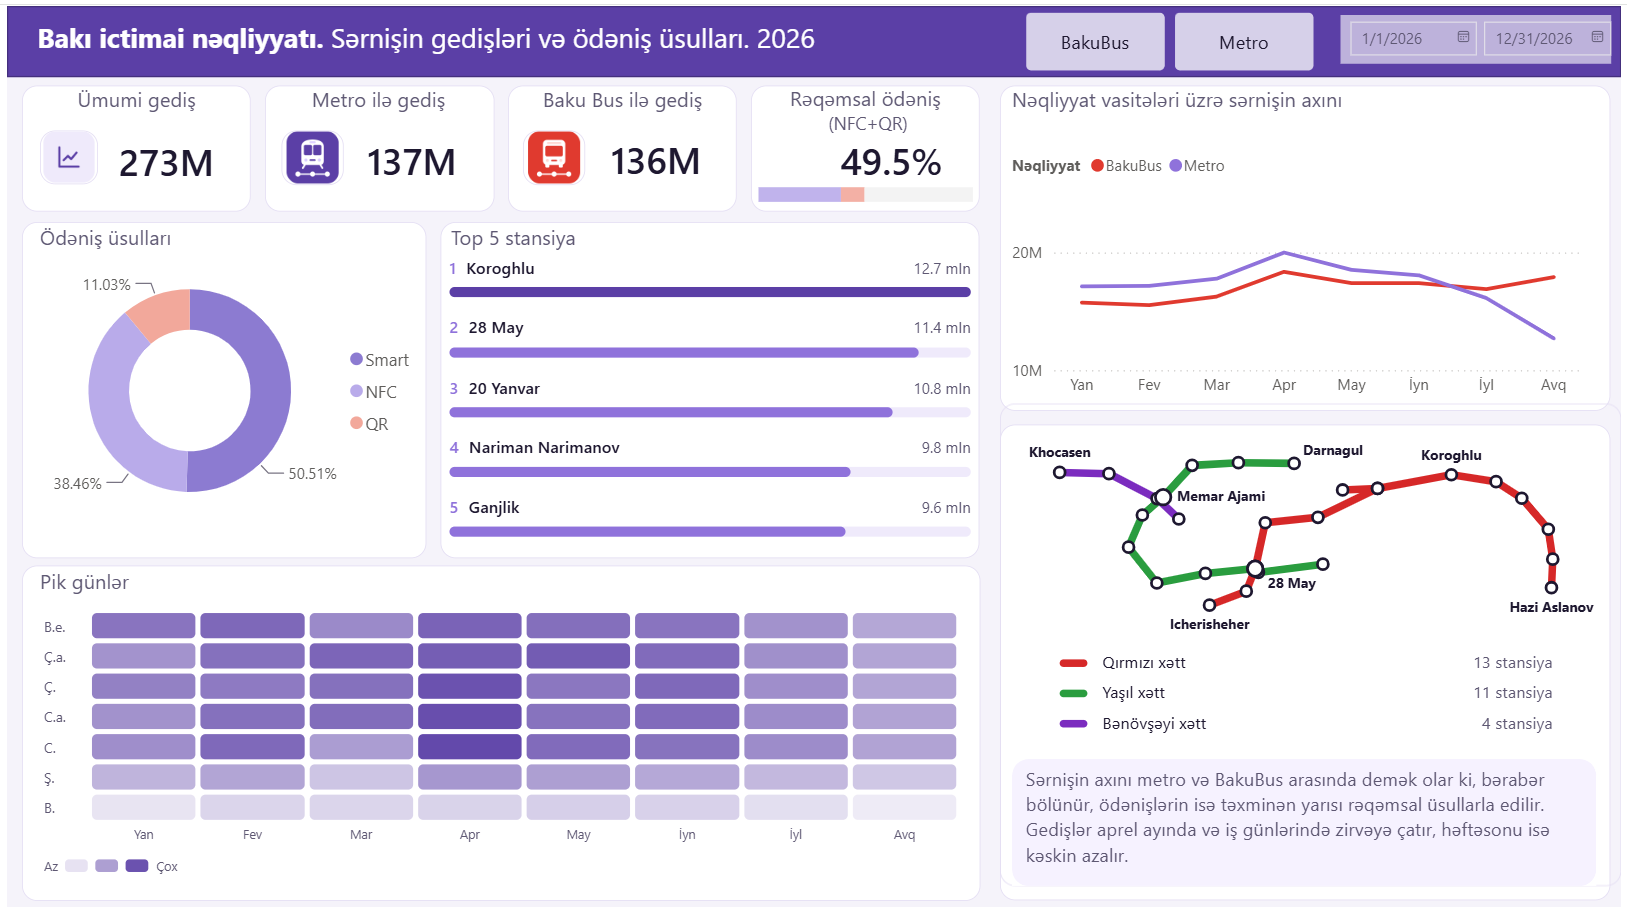

The page's visual inventory and layout, read from the dashboard file:
{"tool":"powerbi","page":{"name":"İctimai nəqliyyat ","canvas":[1280,720],"ordinal":0},"visuals":[{"type":"shape","box":[0,0,1280,56.4],"z":0},{"type":"shape","box":[11.9,62.5,181.2,100],"z":1000},{"type":"cardVisual","fields":{"Data":["Sum(Metro üzrə gedişlər.Gündəlik gediş sayı)"]},"box":[12.5,83,180.6,76.2],"z":2000},{"type":"shape","box":[787,63,484,258],"z":3000},{"type":"lineChart","fields":{"Category":["Calendar.Ay qısa"],"Series":["Metro üzrə gedişlər.Nəqliyyat"],"Y":["Sum(Metro üzrə gedişlər.Gündəlik gediş sayı)"]},"box":[797,112,451,202],"z":4000},{"type":"shape","box":[11.7,170.8,320.8,266.7],"z":5000},{"type":"shape","box":[787.1,331.4,484.3,377.1],"z":6000},{"type":"deneb7E15AEF80B9E4D4F8E12924291ECE89A","fields":{"dataset":["metro sxemi.Latitude","metro sxemi.Longitude","metro sxemi.Qol","metro sxemi.Sira","metro sxemi.Xett","stansiyalar_dim.Stansiya"]},"box":[787.5,315,492.5,382.5],"z":7000},{"type":"donutChart","fields":{"Category":["Metro üzrə ödəniş üsulları.Ödəniş üsulu"],"Y":["Metro üzrə ödəniş üsulları.Orta faiz"]},"box":[12.5,170.8,320,266.7],"z":8000},{"type":"shape","box":[204.4,62.5,181.9,100],"z":9000},{"type":"shape","box":[397.5,62.5,181.2,100],"z":10000},{"type":"shape","box":[590,62.5,181.2,100],"z":11000},{"type":"cardVisual","fields":{"Data":["Sum(Metro üzrə gedişlər.Gündəlik gediş sayı)"]},"box":[204.4,79,181.9,84.4],"z":12000},{"type":"cardVisual","fields":{"Data":["Sum(Metro üzrə gedişlər.Gündəlik gediş sayı)"]},"box":[398.8,78.8,181.2,83.8],"z":13000},{"type":"cardVisual","fields":{"Data":["Metro üzrə ödəniş üsulları.Rəqəmsal ödəniş faizi"]},"box":[590,79.6,181.2,83.1],"z":14000},{"type":"image","box":[217.5,98.2,49.3,43.3],"z":15000},{"type":"image","box":[26.2,98.6,46,42.7],"z":16000},{"type":"image","box":[408.8,98.2,49.3,43.3],"z":17000},{"type":"shape","box":[344.2,170.8,427.5,266.7],"z":18000},{"type":"htmlContent443BE3AD55E043BF878BED274D3A6855","fields":{"content":["Metro üzrə gedişlər.Top 5 stansiya HTML"]},"box":[344.2,188.3,426.7,255.8],"z":19000},{"type":"shape","box":[11.7,444.2,760,265.8],"z":20000},{"type":"barChart","fields":{"Series":["Metro üzrə ödəniş üsulları.Ödəniş üsulu"],"Y":["Metro üzrə ödəniş üsulları.Orta faiz"]},"box":[595.6,120.6,170,51.6],"z":21000},{"type":"htmlContent443BE3AD55E043BF878BED274D3A6855","fields":{"content":["Metro üzrə gedişlər.Heatmap HTML"]},"box":[20,472.5,741.2,247.5],"z":22000},{"type":"textbox","box":[18.9,4.4,777.8,82.2],"z":23000},{"type":"textbox","box":[11.9,62.5,181.9,57.5],"z":24000},{"type":"textbox","box":[203.8,62.5,182.5,57.5],"z":25000},{"type":"textbox","box":[397.5,62.5,181.9,48.8],"z":26000},{"type":"textbox","box":[590,62.3,181.5,50],"z":27000},{"type":"textbox","box":[797.5,62.5,473.8,48.8],"z":28000},{"type":"textbox","box":[352.2,172.2,420,53.3],"z":29000},{"type":"textbox","box":[26.2,172.5,306.2,95],"z":30000},{"type":"textbox","box":[26.2,445,735,53.8],"z":31000},{"type":"slicer","fields":{"Values":["Calendar.Tarix"]},"box":[1056.9,6.9,214.6,38.5],"z":32000},{"type":"shape","box":[796.7,596.7,463.3,100.8],"z":33000},{"type":"textbox","box":[802.5,596.7,457.5,100.8],"z":34000},{"type":"advancedSlicerVisual","fields":{"Values":["Metro üzrə gedişlər.Nəqliyyat"]},"box":[802.5,0,238.8,56.2],"z":35000}]}

Visuals, with their boxes in screenshot pixels (x1, y1, x2, y2), scaled from the page's 1280x720 canvas onto the 1627x907 screenshot:
shape: (0,0,1626,71)
shape: (15,79,245,205)
cardVisual - Sum(Metro üzrə gedişlər.Gündəlik gediş sayı): (16,105,245,201)
shape: (1000,79,1616,404)
lineChart - Calendar.Ay qısa x Metro üzrə gedişlər.Nəqliyyat: (1013,141,1586,396)
shape: (15,215,423,551)
shape: (1000,417,1616,893)
deneb7E15AEF80B9E4D4F8E12924291ECE89A - metro sxemi.Latitude x metro sxemi.Longitude: (1001,397,1626,879)
donutChart - Metro üzrə ödəniş üsulları.Ödəniş üsulu x Metro üzrə ödəniş üsulları.Orta faiz: (16,215,423,551)
shape: (260,79,491,205)
shape: (505,79,736,205)
shape: (750,79,980,205)
cardVisual - Sum(Metro üzrə gedişlər.Gündəlik gediş sayı): (260,100,491,206)
cardVisual - Sum(Metro üzrə gedişlər.Gündəlik gediş sayı): (507,99,737,205)
cardVisual - Metro üzrə ödəniş üsulları.Rəqəmsal ödəniş faizi: (750,100,980,205)
image: (276,124,339,178)
image: (33,124,92,178)
image: (520,124,582,178)
shape: (438,215,981,551)
htmlContent443BE3AD55E043BF878BED274D3A6855 - Metro üzrə gedişlər.Top 5 stansiya HTML: (438,237,980,559)
shape: (15,560,981,894)
barChart - Metro üzrə ödəniş üsulları.Ödəniş üsulu x Metro üzrə ödəniş üsulları.Orta faiz: (757,152,973,217)
htmlContent443BE3AD55E043BF878BED274D3A6855 - Metro üzrə gedişlər.Heatmap HTML: (25,595,968,906)
textbox: (24,6,1013,109)
textbox: (15,79,246,151)
textbox: (259,79,491,151)
textbox: (505,79,736,140)
textbox: (750,78,981,141)
textbox: (1014,79,1616,140)
textbox: (448,217,982,284)
textbox: (33,217,423,337)
textbox: (33,561,968,628)
slicer - Calendar.Tarix: (1343,9,1616,57)
shape: (1013,752,1602,879)
textbox: (1020,752,1602,879)
advancedSlicerVisual - Metro üzrə gedişlər.Nəqliyyat: (1020,0,1324,71)
